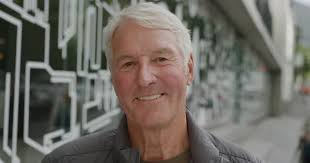white_male: (107, 19, 191, 135)
